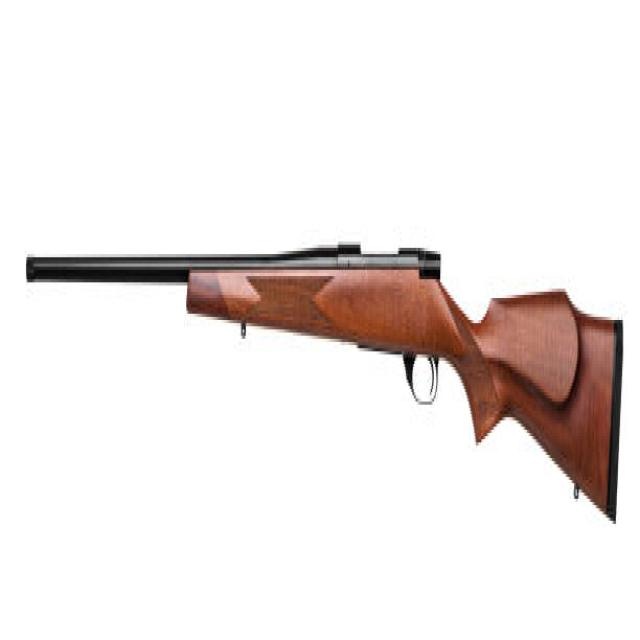rifle: (23, 232, 627, 534)
